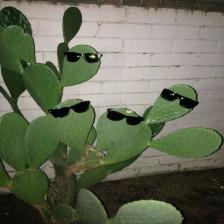green: (0, 7, 223, 224)
